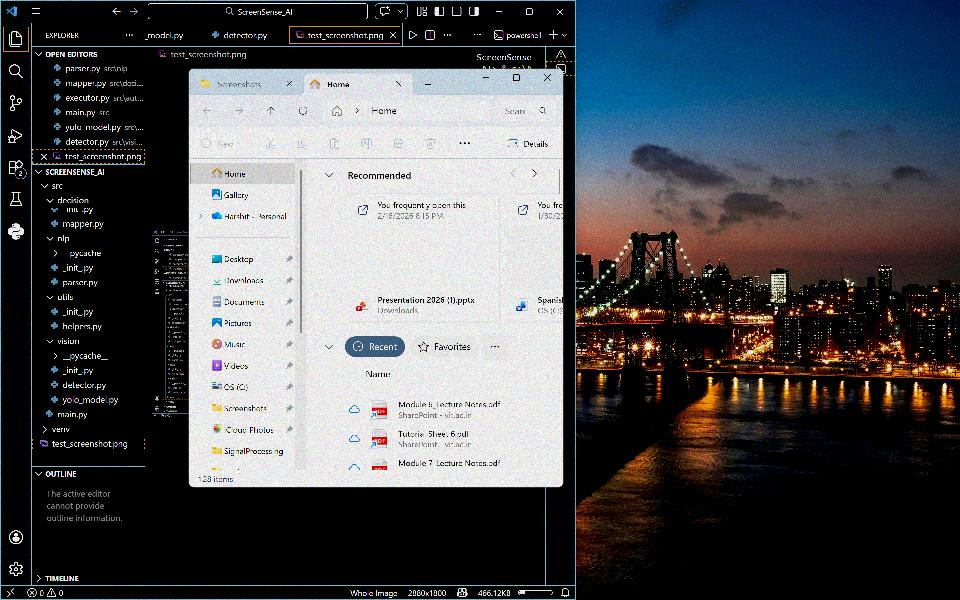close_button: (539, 70, 557, 91), (551, 2, 569, 20)
maximize_button: (520, 2, 540, 23), (509, 71, 527, 90)
minimize_button: (490, 2, 509, 21), (477, 70, 494, 88)
